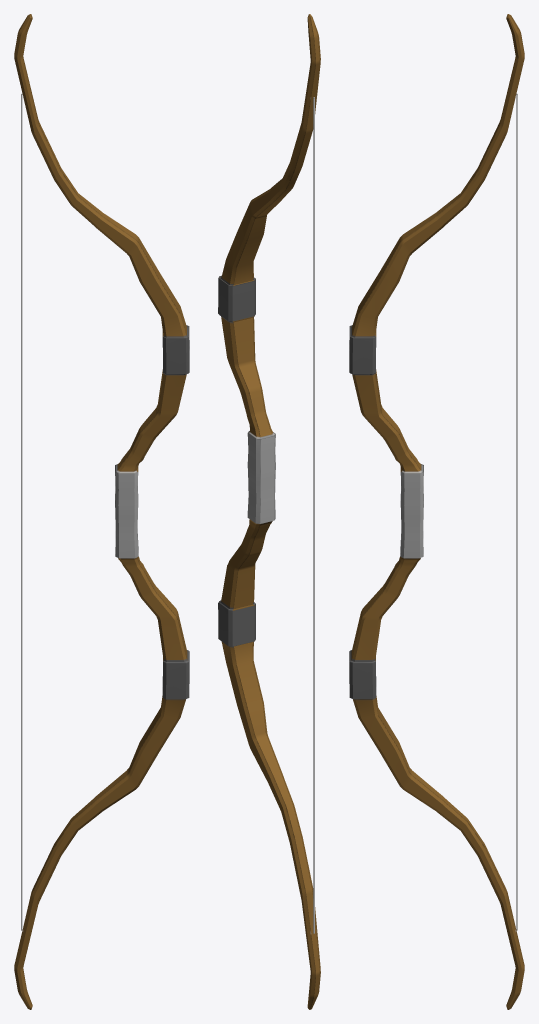
File: bow.fbx
3 views of the same model, side by side, from view 1: azimuth 90°, elevation 25°; view 2: azimuth 210°, elevation 25°; view 3: azimuth 270°, elevation 25° (orthographic).
Visible parts, largest first — view 1: bowMesh; view 2: bowMesh; view 3: bowMesh.
Part boxes in pixels (box(x1,y1,x2,y2)): bowMesh: box(14, 14, 189, 1009); bowMesh: box(218, 14, 320, 1009); bowMesh: box(349, 14, 524, 1009).
Bounding box in the file's own units: 24.54 × 842 × 134.
